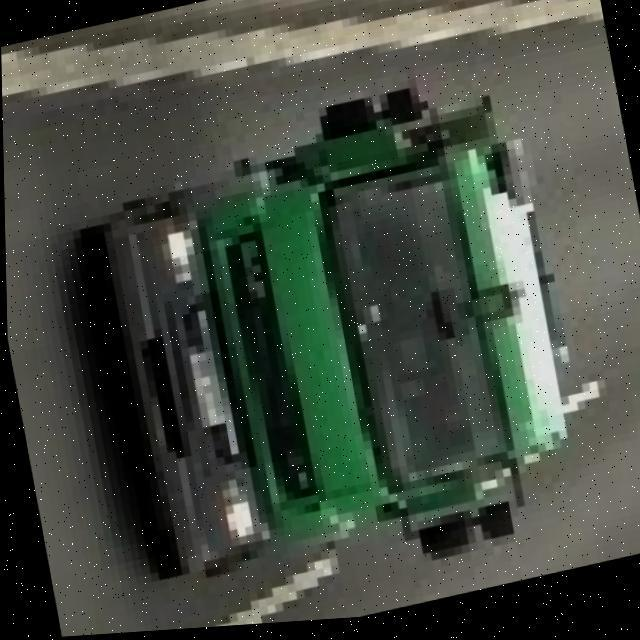truck: (72, 58, 606, 636)
